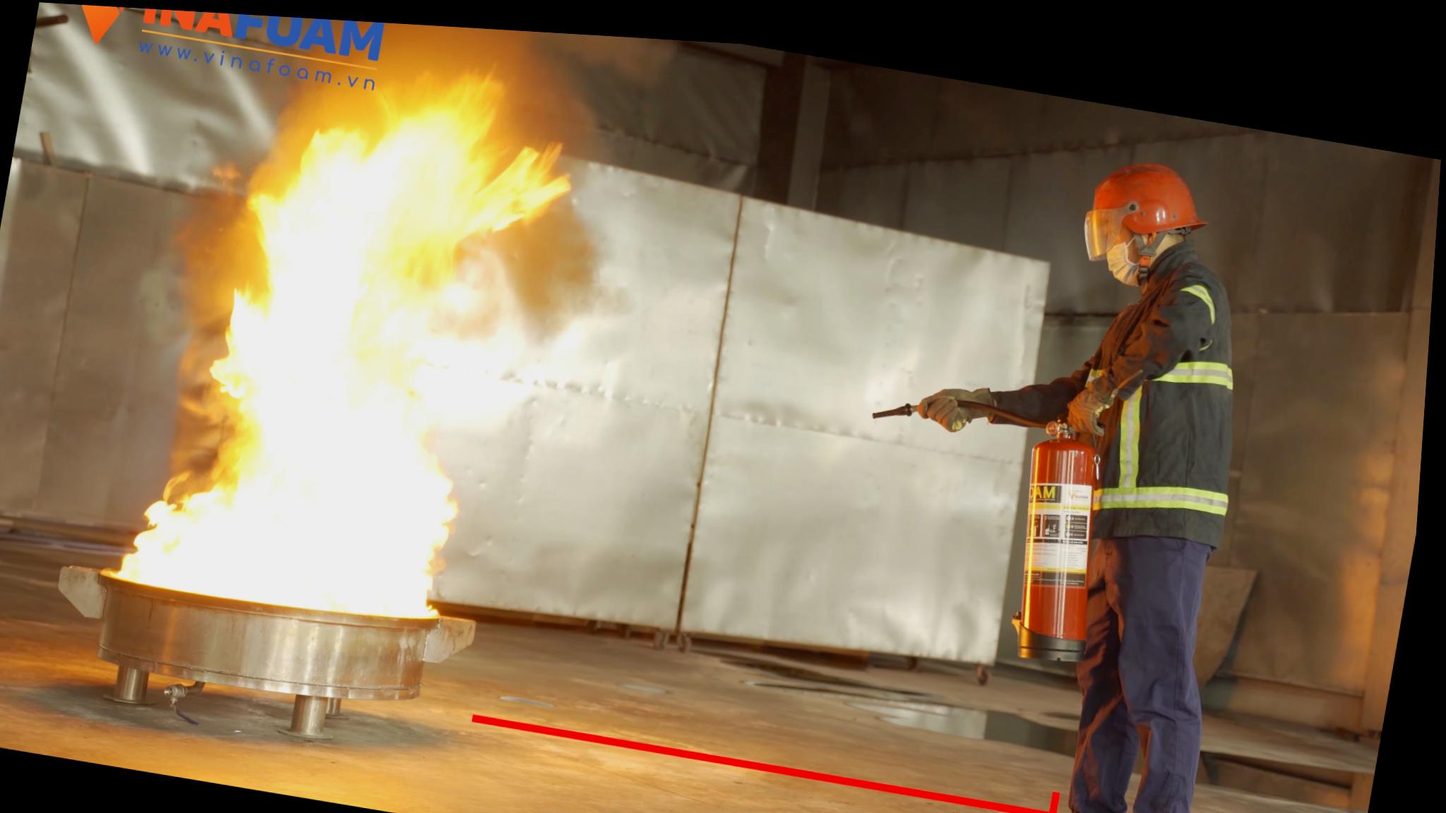FireExtinguisher: (988, 392, 1136, 667)
not: (74, 6, 577, 661), (323, 625, 706, 813)
